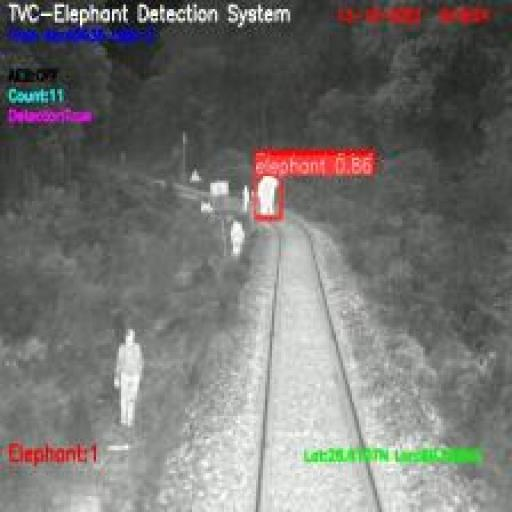Elephant: (256, 174, 281, 218)
